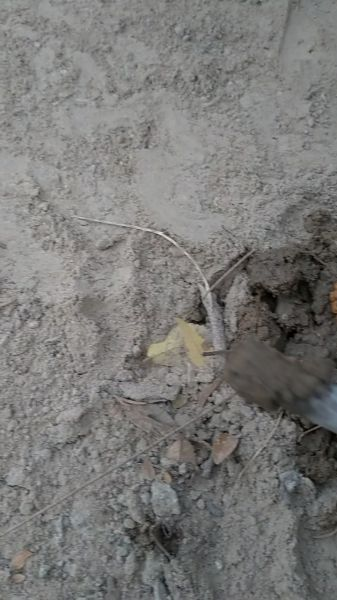eggs: (327, 282, 337, 320)
